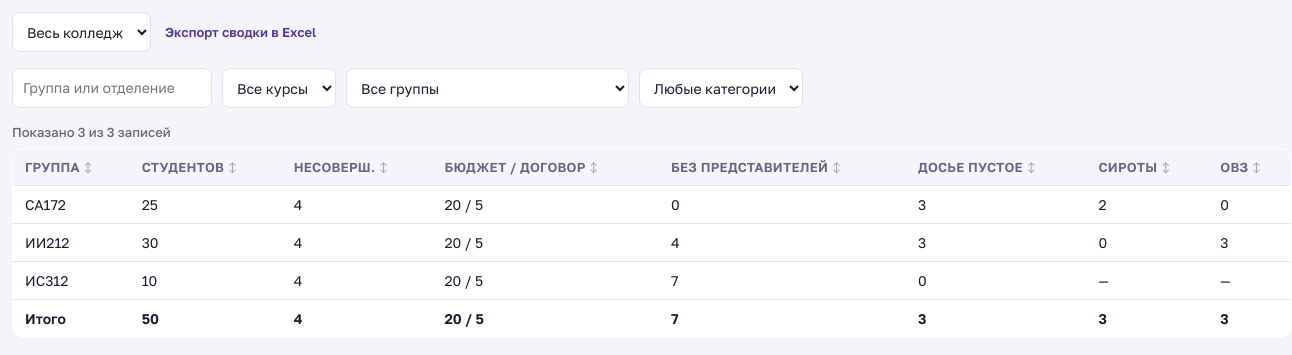
Test: PassportPage — поиск, фильтры и сортировка › если ничего не подошло — об этом написано
expect the cell "СА172" is shown: met, box [12,186,130,224]
Type "ЯЯЯ" into the search field named "Поиск по группе или отделению" at (112, 88), box [12,68,212,108]
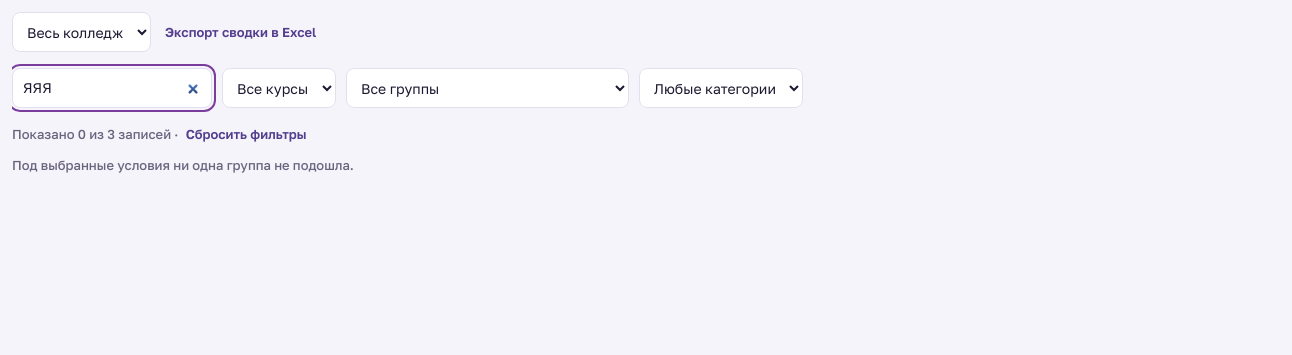
expect the text "Под выбранные условия ни одна группа не подошла." is shown: met, box [12,157,354,173]
